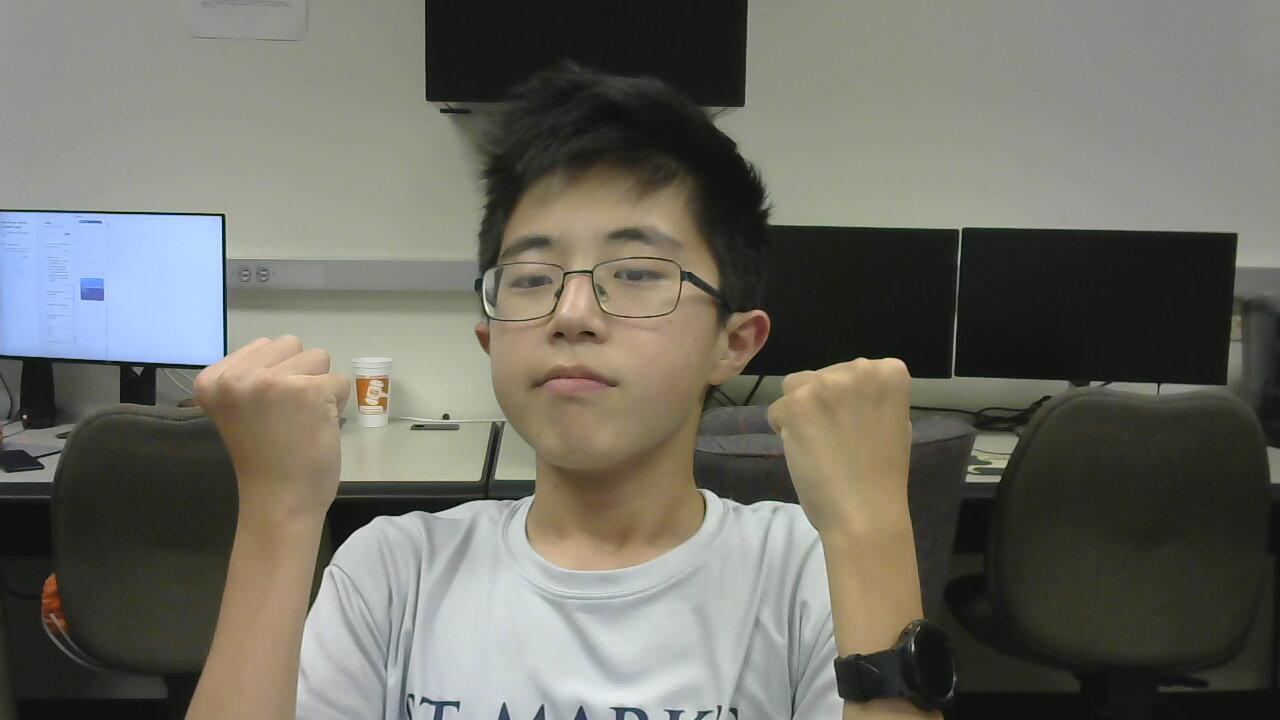fist: (758, 357, 947, 529), (191, 327, 357, 501)
